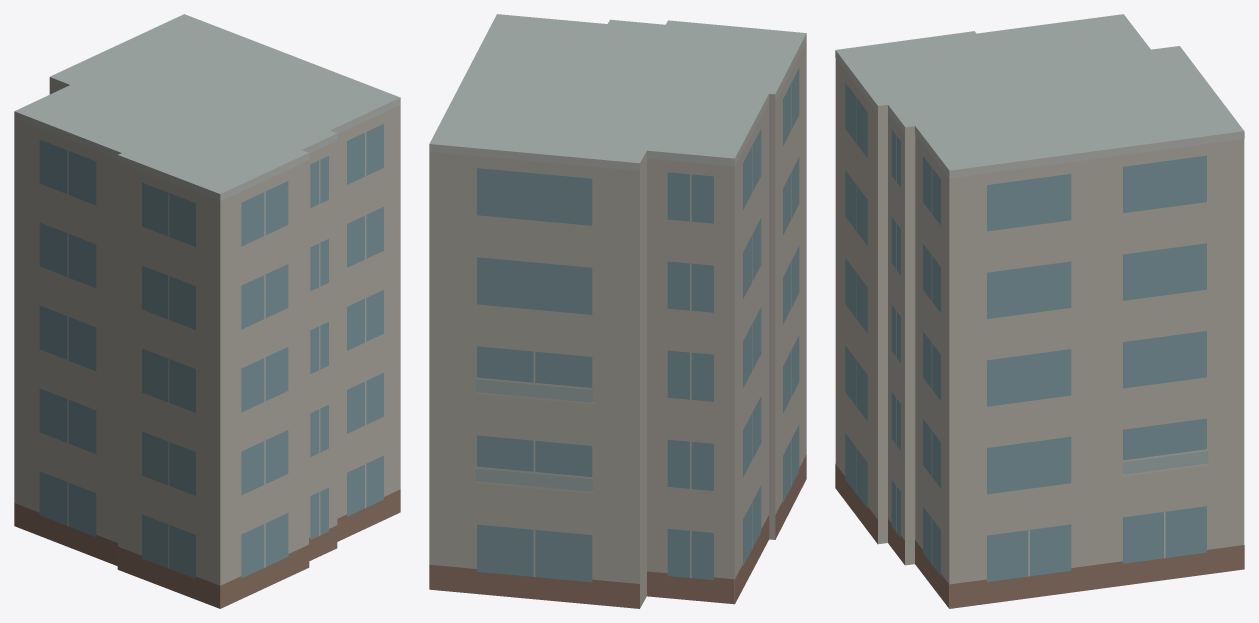
The model's file is survey-upis-32618469.glb.
The picture shows the model from 3 angles, left to right: view 1: azimuth 30°, elevation 25°; view 2: azimuth 150°, elevation 25°; view 3: azimuth 270°, elevation 25°; orthographic projection. The views are drawn at different scales.
Visible parts, largest first — view 1: survey-upis-32618469.tmp; view 2: survey-upis-32618469.tmp; view 3: survey-upis-32618469.tmp.
Part boxes in pixels (left/top/right/bottom): survey-upis-32618469.tmp: left=14, top=14, right=400, bottom=608; survey-upis-32618469.tmp: left=429, top=14, right=806, bottom=608; survey-upis-32618469.tmp: left=835, top=14, right=1244, bottom=608.
Size of the model in its own units: 10.59 by 13.8 by 11.68.
